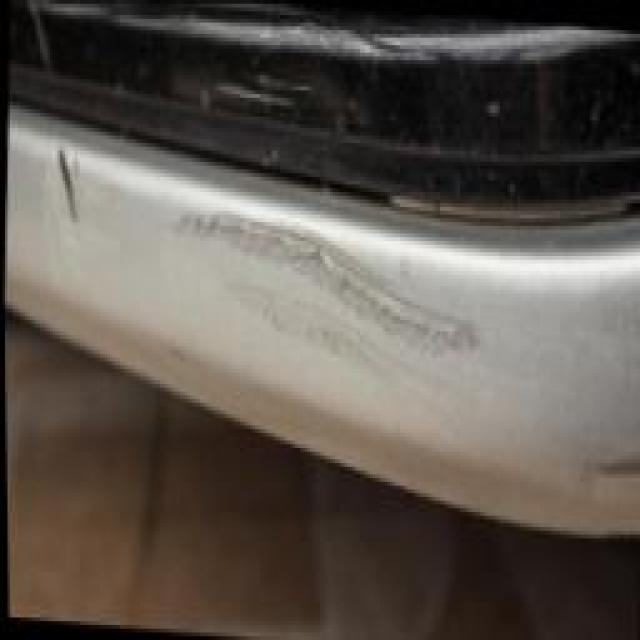Bumper: (2, 109, 557, 475)
